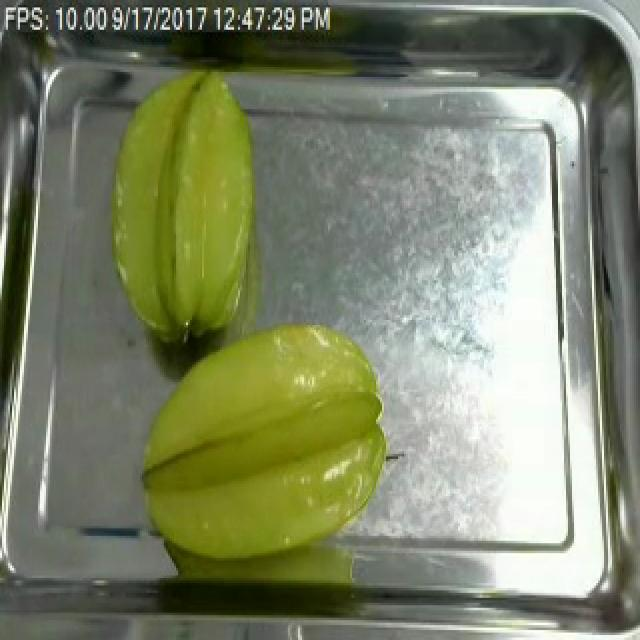fruit: (128, 313, 398, 573), (94, 57, 268, 360)
